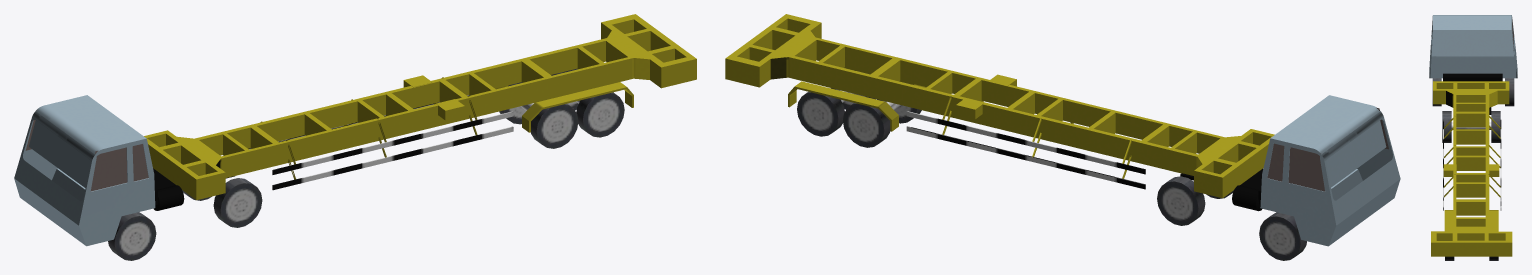
File: Truck.FBX
3 views of the same model, side by side, from view 1: azimuth 30°, elevation 25°; view 2: azimuth 150°, elevation 25°; view 3: azimuth 270°, elevation 25° (orthographic). The views are drawn at different scales.
Parts seen in each view (by area): view 1: Truck001; view 2: Truck001; view 3: Truck001.
Boxes of the visible parts, bbox=[...] form: Truck001: bbox=[14, 14, 696, 260]; Truck001: bbox=[725, 14, 1400, 260]; Truck001: bbox=[1429, 15, 1517, 260].
Size of the model in its own units: 1557 by 285 by 290.
